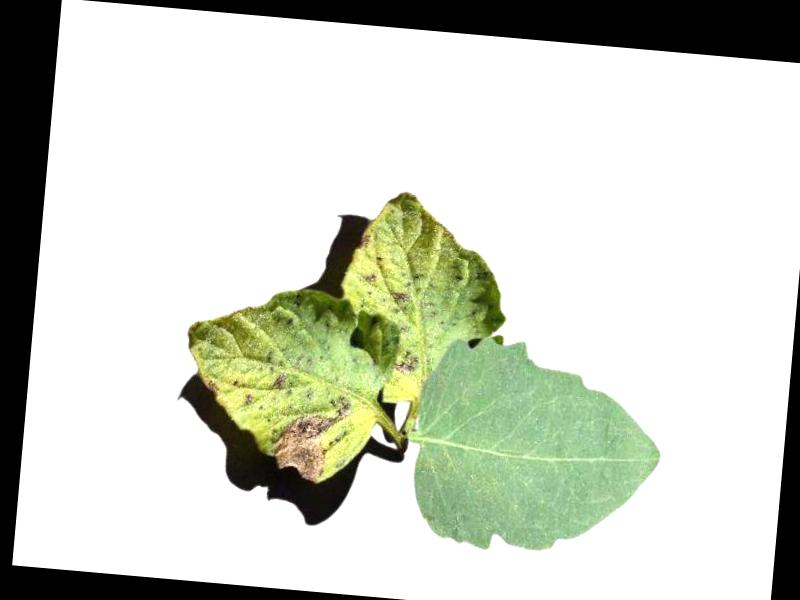Early_blight: (269, 387, 354, 486), (395, 347, 421, 377), (205, 377, 225, 397), (394, 288, 413, 301), (273, 369, 287, 386), (361, 230, 372, 247), (366, 271, 378, 285)
healthy: (397, 332, 669, 563)
